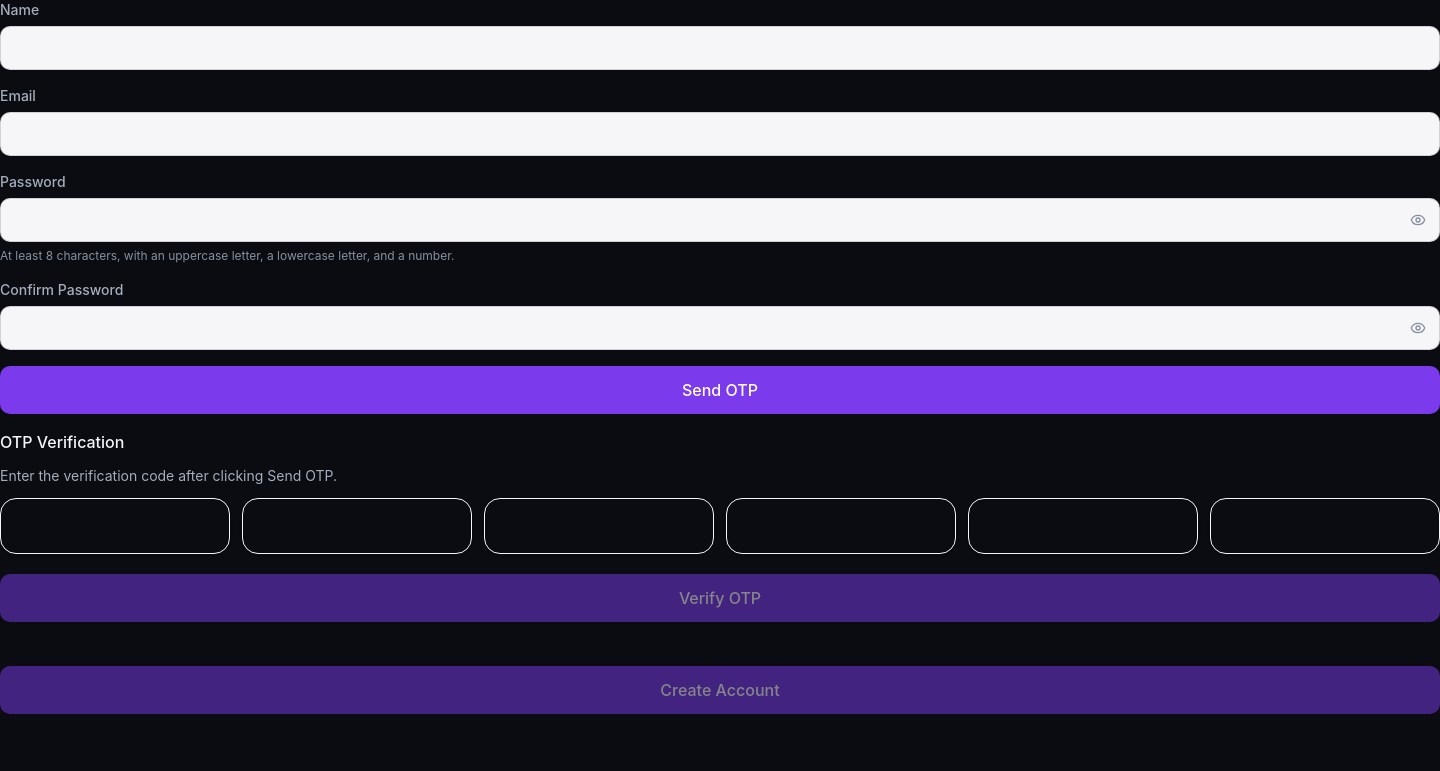
Scenario: SignUpForm › shows validation errors instead of submitting when fields are invalid
What coordinates should you click on to do the following:
click the button "Send OTP"
I would click on:
 (720, 390)
Its box is [0,366,1439,414].
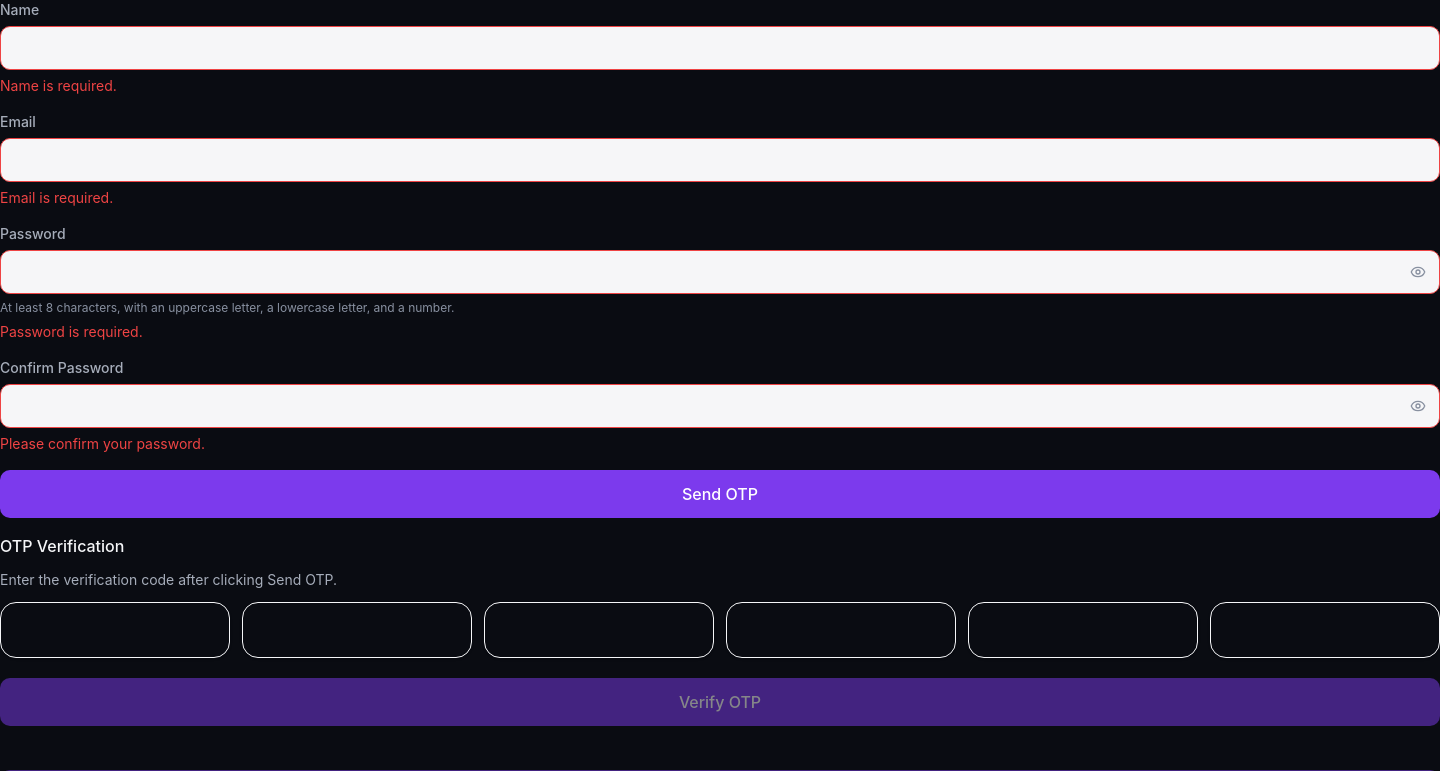
Result: the text "Name is required." is shown at [0,77,117,94]
